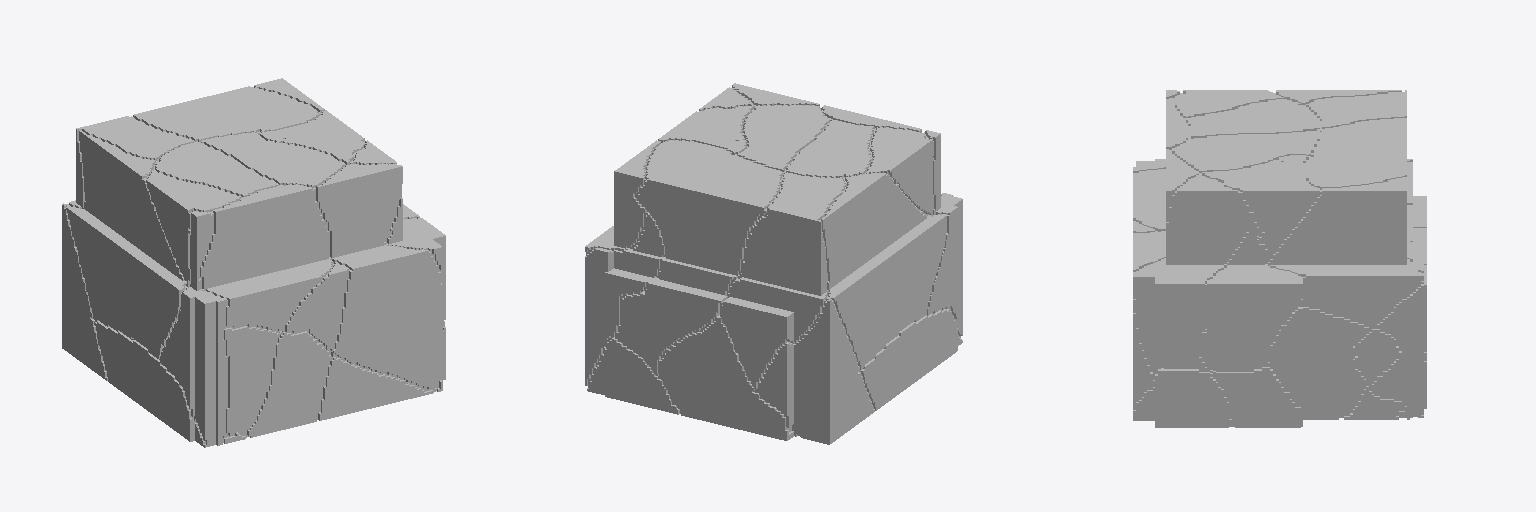
The model's file is Tutorial Map V1.0-0.obj.
The picture shows the model from 3 angles: view 1: azimuth 30°, elevation 25°; view 2: azimuth 150°, elevation 25°; view 3: azimuth 270°, elevation 25°; orthographic projection.
Parts seen in each view (by area): view 1: object 1; view 2: object 1; view 3: object 1.
Boxes of the visible parts, x1,y1,x2,y2 form: object 1: [62, 78, 445, 447]; object 1: [585, 83, 962, 444]; object 1: [1133, 90, 1426, 427].
Size of the model in its own units: 10.8 by 8.8 by 10.7.